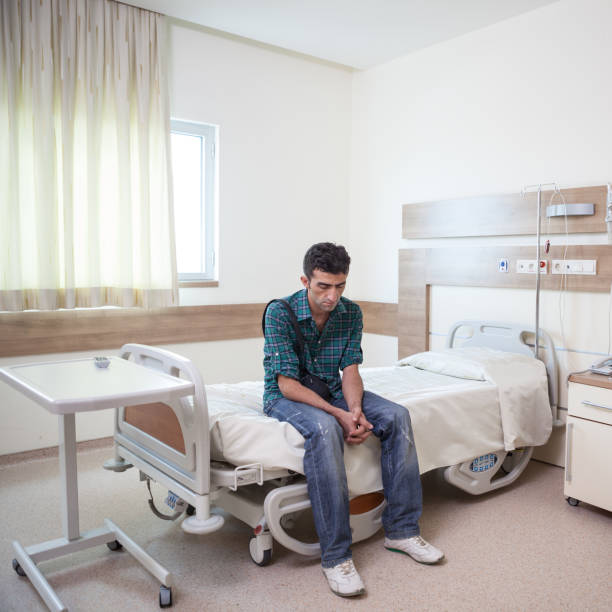bedside_table: (563, 365, 612, 517)
foot_board: (103, 342, 227, 536)
handle: (565, 422, 574, 485), (582, 399, 612, 411)
hospital_bed: (109, 319, 563, 566)
iv_pole: (520, 178, 560, 360)
overbed_table: (1, 355, 190, 607)
person: (261, 242, 446, 598)
telephone: (592, 352, 612, 377)
